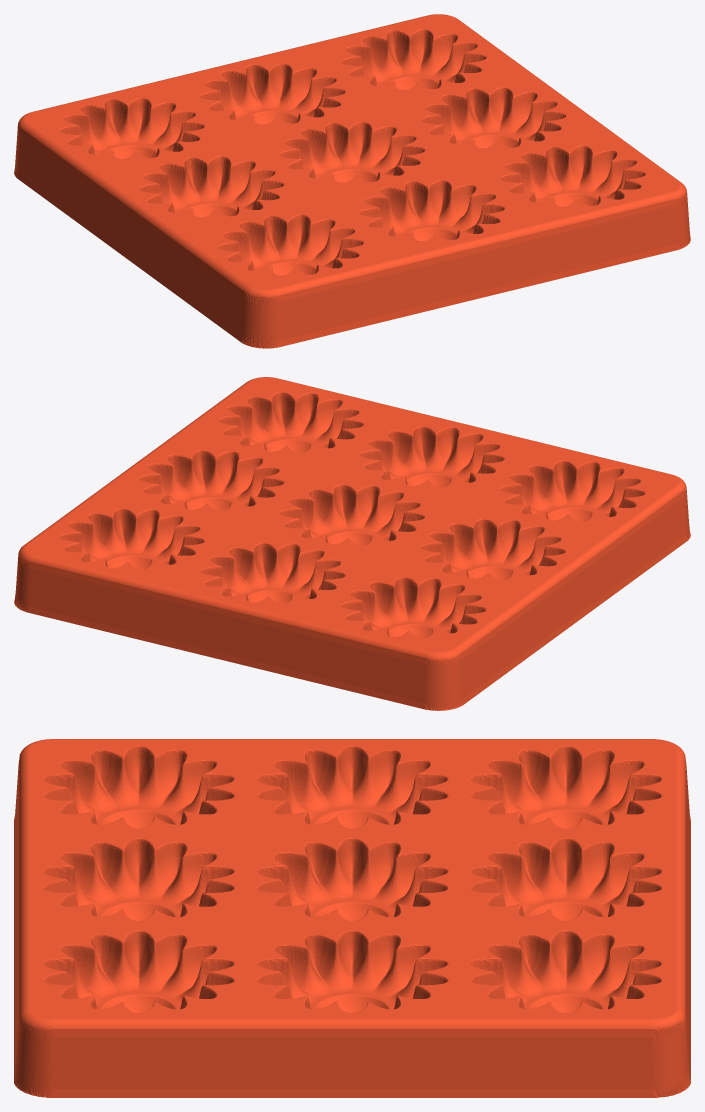
Rendered from mold.glb.
3 renders of one model, top to bottom at view 1: azimuth 30°, elevation 25°; view 2: azimuth 150°, elevation 25°; view 3: azimuth 270°, elevation 25°, orthographic. The views are drawn at different scales.
Visible parts, largest first — view 1: geometry_0; view 2: geometry_0; view 3: geometry_0.
Boxes of the visible parts, box(x1,y1,x2,y2) form: geometry_0: box(14, 14, 690, 348); geometry_0: box(14, 377, 690, 710); geometry_0: box(14, 739, 690, 1097).
Size of the model in its own units: 0.1595 by 0.0185 by 0.1563.
